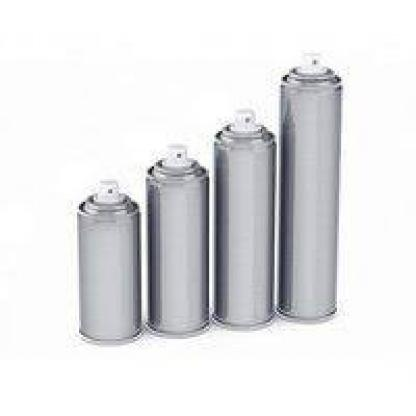Compsot: (279, 54, 335, 318), (210, 108, 275, 327), (141, 141, 208, 333), (75, 181, 139, 341)
